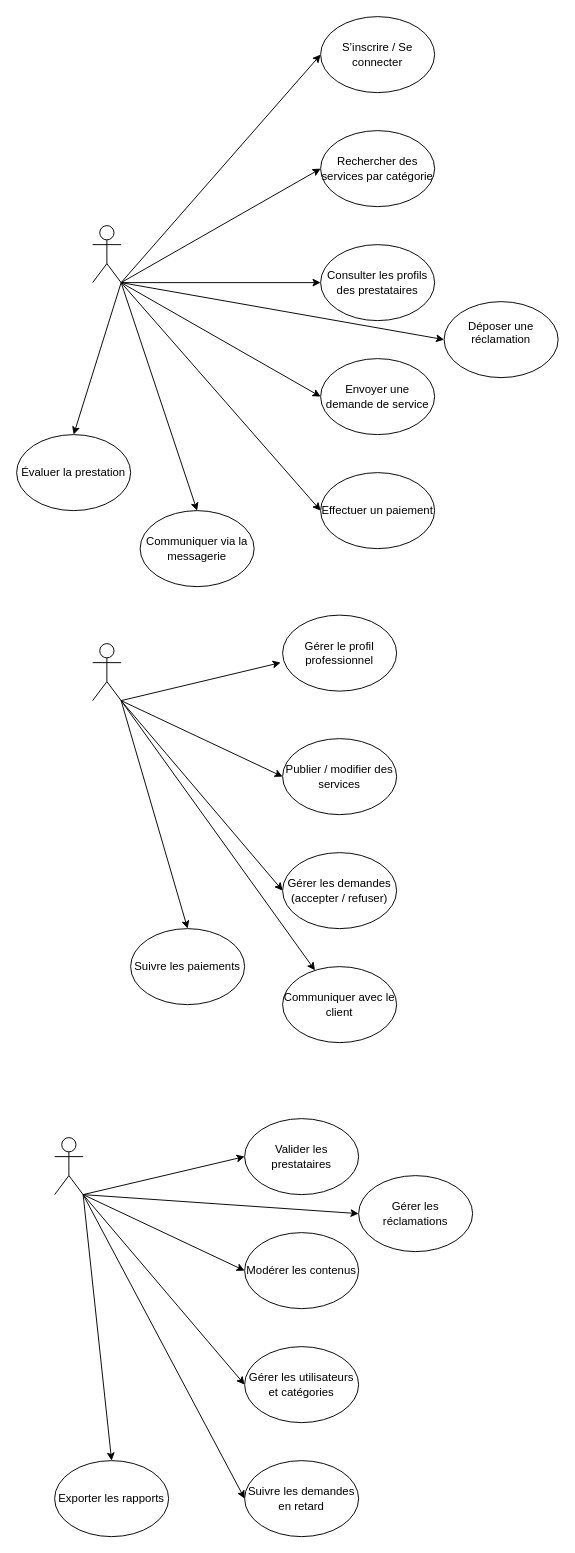
The diagram is 575 pixels wide and 1553 high, and some of its shapes have lost their labels. Here are the shapes that lost their labels. From the top down, the centre of each, then its label:
point (106, 254): Client
point (106, 672): Prestataire
point (68, 1166): Administrateur
